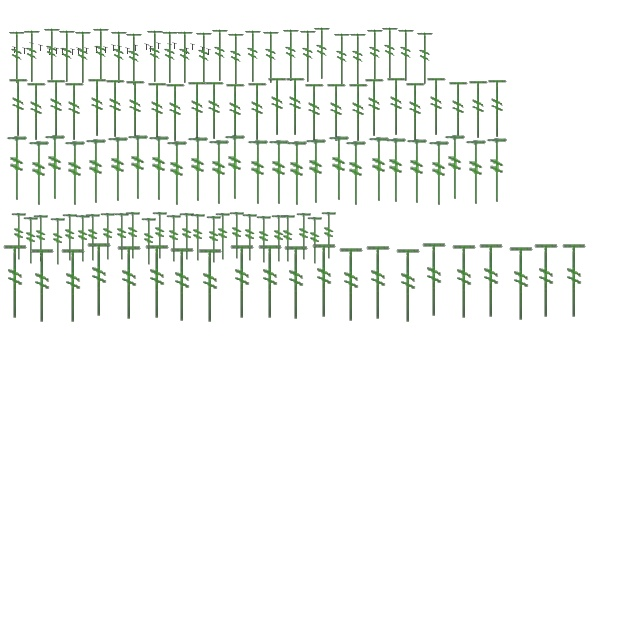enseble_chain: (12, 46, 18, 54), (38, 44, 44, 52), (60, 48, 66, 56), (70, 48, 76, 56), (94, 46, 100, 54), (156, 42, 162, 50), (172, 42, 178, 50), (200, 46, 206, 54), (206, 48, 212, 56), (22, 48, 28, 54), (54, 48, 60, 54), (76, 48, 82, 54), (84, 48, 90, 54), (144, 44, 150, 50), (148, 46, 154, 52), (184, 48, 190, 54), (190, 44, 196, 50), (30, 42, 34, 50), (48, 48, 52, 56), (104, 46, 108, 54), (112, 44, 116, 52), (134, 44, 138, 52), (118, 46, 122, 52), (126, 48, 130, 54), (168, 44, 172, 50)
fan: (168, 246, 198, 324), (282, 244, 312, 322), (310, 242, 340, 320), (364, 244, 394, 322), (532, 242, 562, 320), (560, 242, 590, 320), (28, 248, 58, 324), (196, 248, 226, 324), (228, 244, 258, 320), (256, 244, 286, 320), (394, 248, 424, 324), (420, 242, 450, 318), (450, 244, 480, 320), (116, 244, 144, 322), (338, 246, 366, 324), (478, 242, 506, 320), (2, 244, 30, 320), (60, 248, 88, 324), (86, 242, 114, 318), (144, 244, 172, 320), (508, 246, 536, 322), (84, 138, 108, 206), (106, 136, 130, 204), (126, 134, 150, 202), (186, 136, 210, 204), (304, 138, 328, 206), (344, 140, 368, 208), (246, 140, 270, 206), (384, 138, 408, 204), (464, 140, 488, 206), (28, 140, 50, 208), (44, 134, 66, 202), (64, 140, 86, 208), (166, 140, 188, 208), (224, 134, 246, 202), (286, 140, 308, 208), (368, 136, 390, 204), (406, 138, 428, 206), (428, 140, 450, 208), (444, 134, 466, 202), (104, 78, 128, 140), (164, 82, 188, 144), (186, 80, 210, 142), (224, 82, 248, 144), (266, 76, 290, 138), (284, 76, 308, 138), (486, 78, 510, 140), (6, 136, 28, 202), (148, 136, 170, 202), (208, 140, 230, 206), (268, 140, 290, 206), (328, 136, 350, 202), (486, 138, 508, 204), (86, 78, 110, 138), (124, 80, 148, 140), (146, 82, 170, 142), (246, 82, 270, 142), (404, 82, 428, 142), (46, 78, 68, 140), (204, 80, 226, 142), (304, 82, 326, 144), (326, 82, 348, 144), (348, 82, 370, 144), (386, 76, 408, 138), (426, 76, 448, 138), (448, 80, 470, 142), (8, 78, 30, 138), (26, 82, 48, 142), (64, 82, 86, 142), (364, 78, 386, 138), (468, 80, 490, 140), (22, 28, 42, 86), (42, 26, 62, 84), (57, 28, 77, 86), (91, 26, 111, 84), (145, 28, 165, 86), (194, 30, 214, 88), (243, 28, 263, 86), (298, 28, 318, 86), (415, 30, 435, 88), (7, 30, 27, 86), (73, 30, 93, 86), (109, 30, 129, 86), (124, 32, 144, 88), (160, 30, 180, 86), (175, 30, 195, 86), (210, 28, 230, 84), (226, 32, 246, 88), (261, 30, 281, 86), (281, 28, 301, 84), (312, 26, 332, 82), (332, 32, 352, 88), (348, 32, 368, 88), (365, 28, 385, 84), (380, 26, 400, 82), (396, 28, 416, 84), (10, 212, 28, 262), (22, 216, 40, 266), (32, 214, 50, 264), (74, 214, 92, 264), (178, 212, 196, 262), (214, 212, 232, 262), (270, 214, 288, 264), (306, 216, 324, 266), (84, 214, 102, 262), (124, 212, 142, 260), (140, 218, 158, 266), (228, 212, 246, 260), (320, 212, 338, 260), (100, 212, 116, 262), (114, 212, 130, 262), (166, 214, 182, 264), (280, 214, 296, 264), (296, 212, 312, 262), (50, 218, 66, 266), (62, 214, 78, 262), (152, 212, 168, 260), (190, 214, 206, 262), (206, 216, 222, 264), (242, 214, 258, 262), (256, 216, 272, 264)
